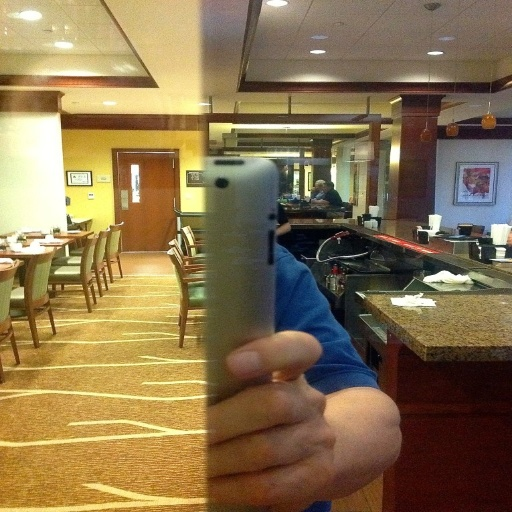hand: (176, 346, 408, 493)
